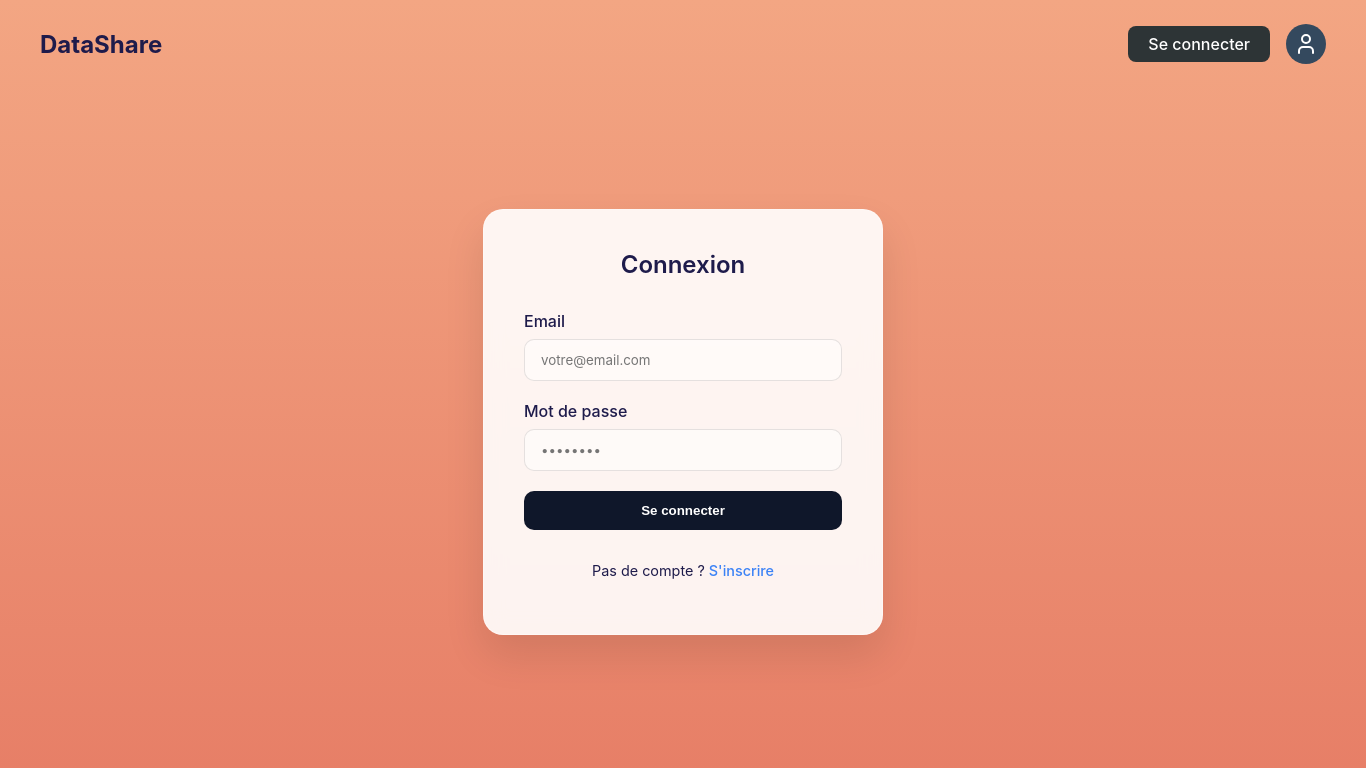
Test: Auth flow: login › should show an error on invalid credentials
This screenshot has width=1366, height=768.
Type "unknown@example.com" into the field with test id "login-email". click: (683,360)
box: left=524, top=339, right=842, bottom=381
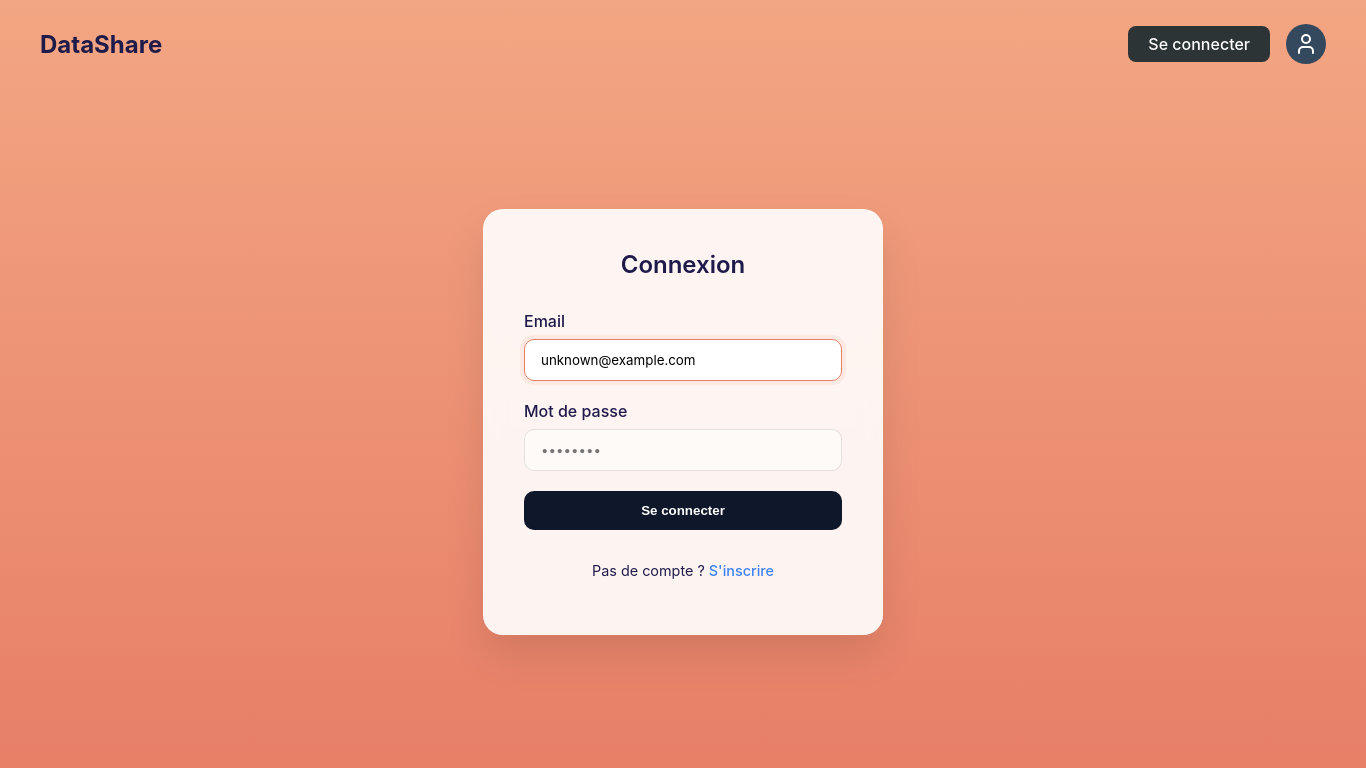
Type "wrong-password" into the password field with test id "login-password". click: (683,450)
box: left=524, top=429, right=842, bottom=471
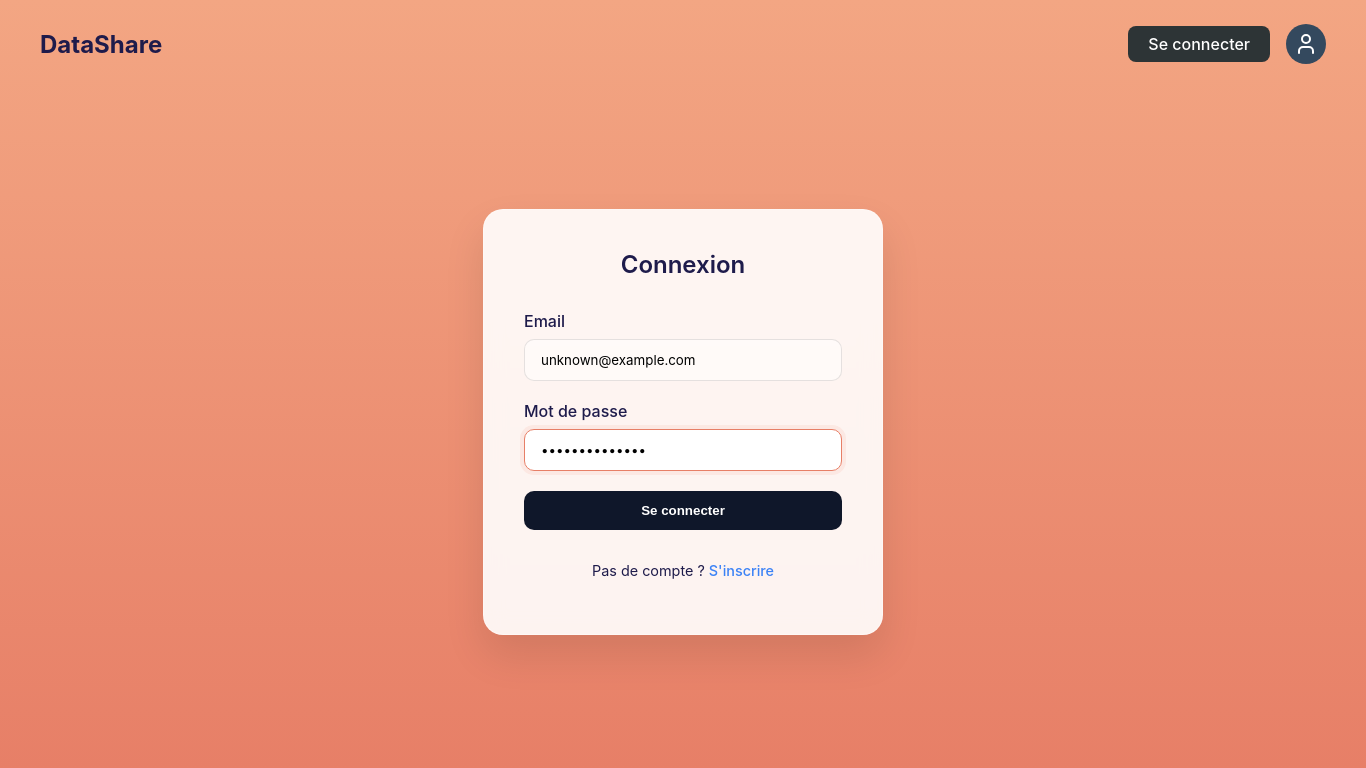
Click the button with test id "login-submit". click: (683,511)
box: left=524, top=491, right=842, bottom=530
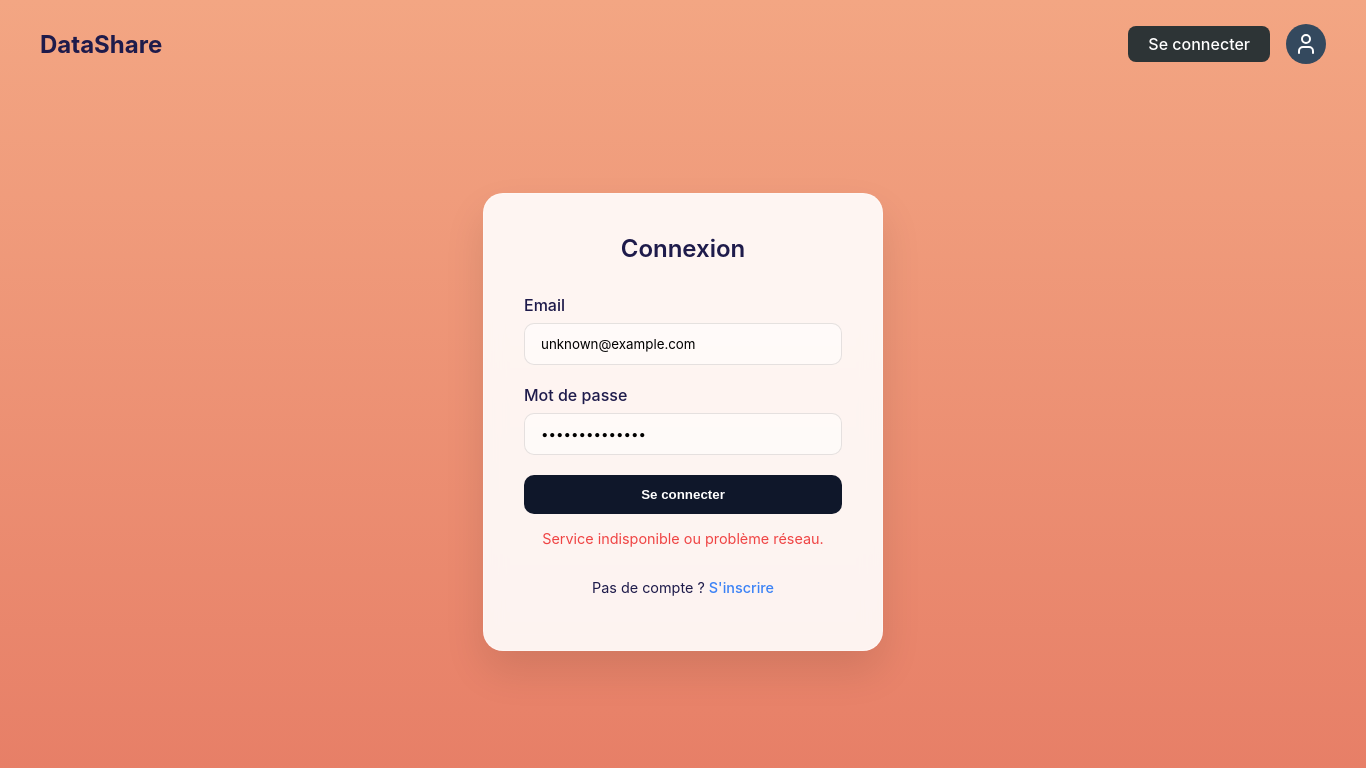
Expected: the text "Service indisponible ou problème réseau." is shown, left=524, top=530, right=842, bottom=547
